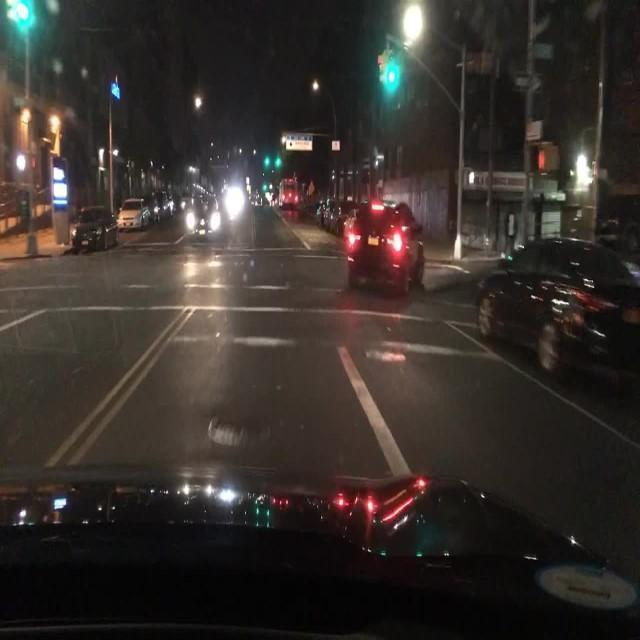normal: (481, 236, 640, 378), (340, 200, 424, 290), (67, 204, 118, 252), (117, 197, 150, 230)
